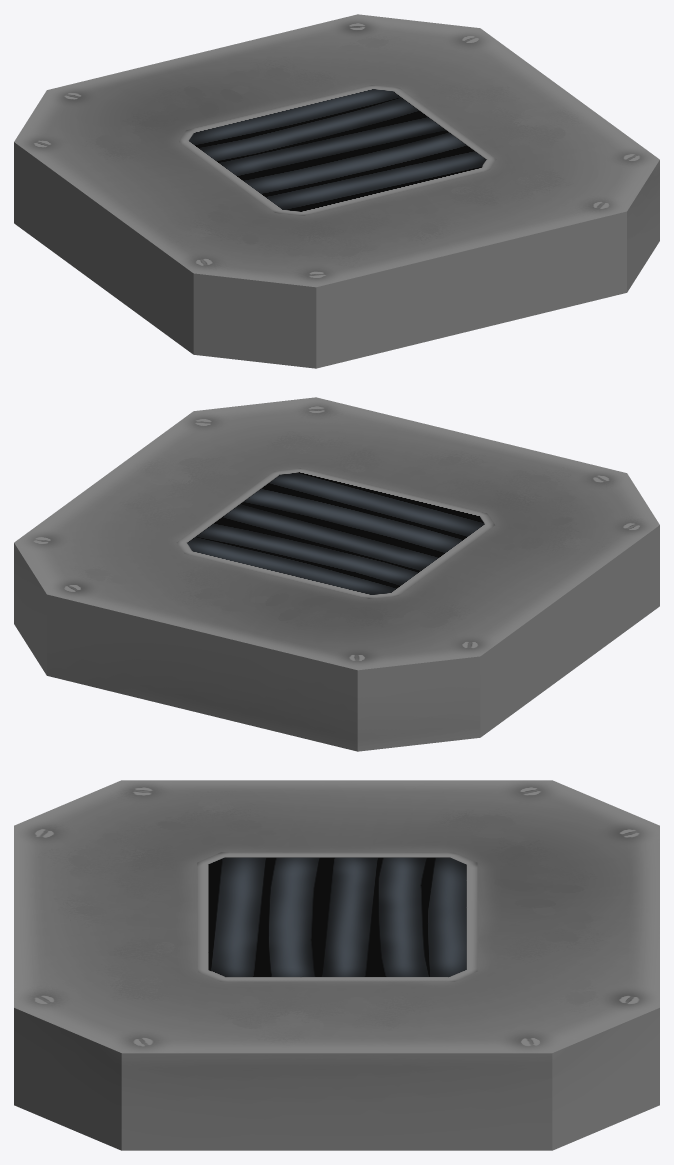
The model's file is Floor Plates Cable Access.fbx.
The picture shows the model from 3 angles, top to bottom: view 1: azimuth 30°, elevation 25°; view 2: azimuth 150°, elevation 25°; view 3: azimuth 270°, elevation 25°; orthographic projection. The views are drawn at different scales.
Visible parts, largest first — view 1: Floor Plate Cable Access; view 2: Floor Plate Cable Access; view 3: Floor Plate Cable Access.
Boxes of the visible parts, box(x1,y1,x2,y2) form: Floor Plate Cable Access: box(14, 14, 659, 368); Floor Plate Cable Access: box(14, 397, 659, 751); Floor Plate Cable Access: box(14, 780, 659, 1150).
Bounding box in the file's own units: 3 × 0.5 × 3.
